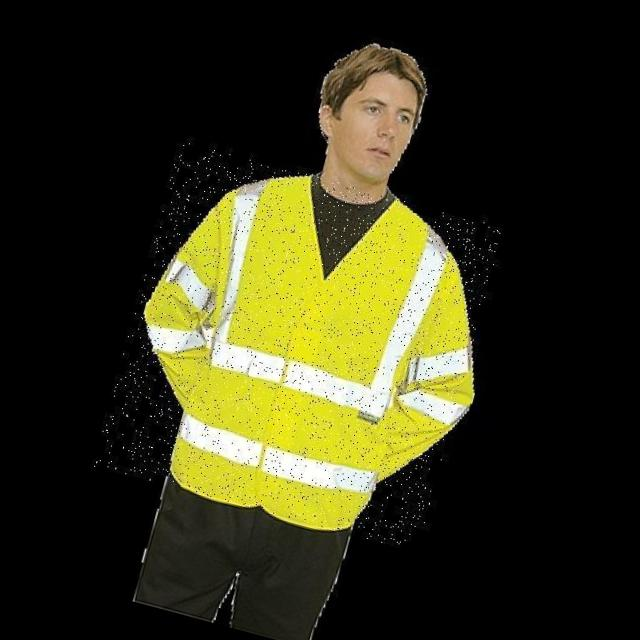safety_vest: (92, 140, 504, 553)
